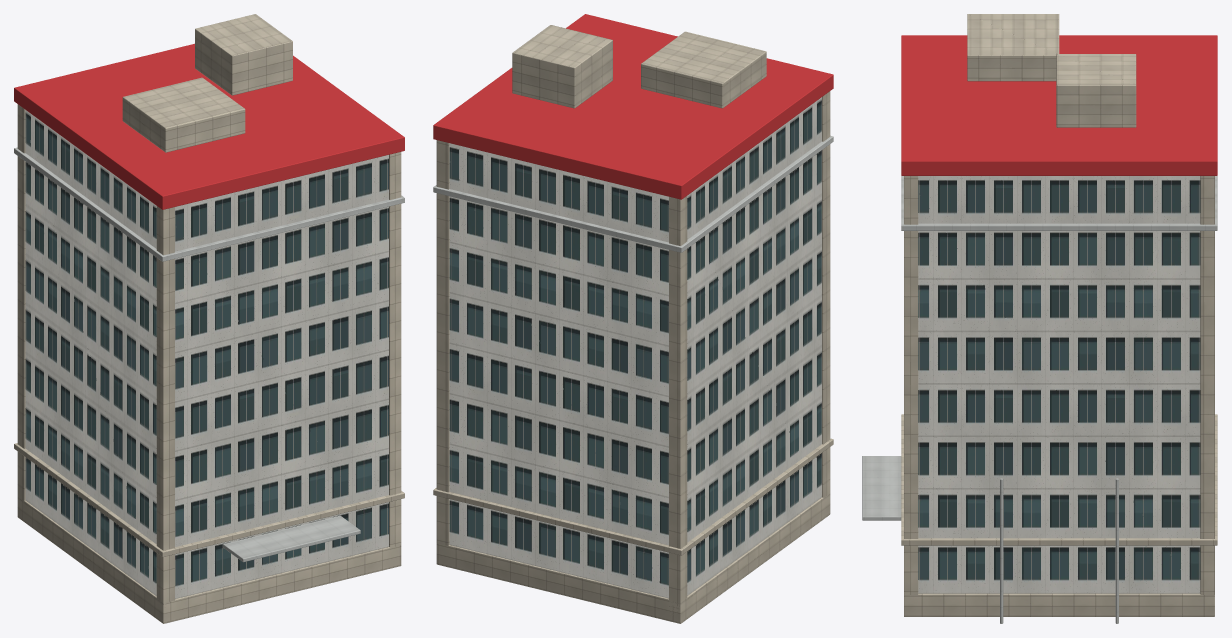
The model's file is LM_ENV_TowerHSBC.glb.
3 renders of one model, left to right at view 1: azimuth 30°, elevation 25°; view 2: azimuth 150°, elevation 25°; view 3: azimuth 270°, elevation 25°, orthographic. The views are drawn at different scales.
Parts seen in each view (by area): view 1: TowerHSBC; view 2: TowerHSBC; view 3: TowerHSBC.
Boxes of the visible parts, x1,y1,x2,y2 form: TowerHSBC: (14, 14, 404, 623); TowerHSBC: (433, 14, 833, 623); TowerHSBC: (862, 14, 1217, 623).
Size of the model in its own units: 17.44 by 31.3 by 19.65.
Materials: 4 (3 with a texture image).
